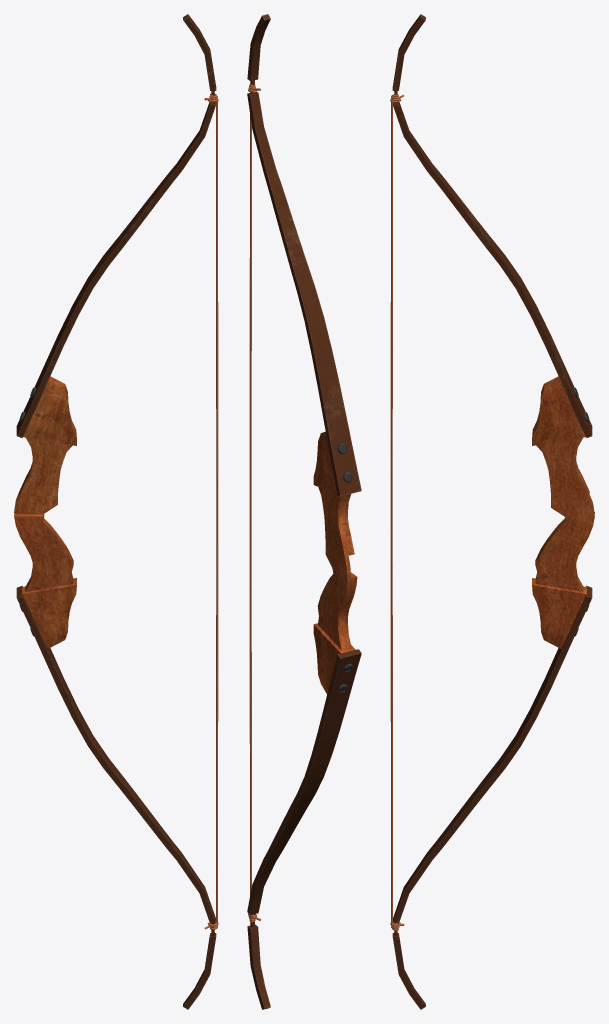
File: recurve2.glb
3 renders of one model, left to right at view 1: azimuth 90°, elevation 25°; view 2: azimuth 210°, elevation 25°; view 3: azimuth 270°, elevation 25°, orthographic.
Parts seen in each view (by area): view 1: Object_395; view 2: Object_395; view 3: Object_395.
Part boxes in pixels (x1,y1,x2,y2): Object_395: [14, 14, 218, 1009]; Object_395: [247, 14, 361, 1009]; Object_395: [390, 14, 594, 1009].
Size of the model in its own units: 0.0339 by 1.51 by 0.2818.
Materials: 1 (1 with a texture image).
